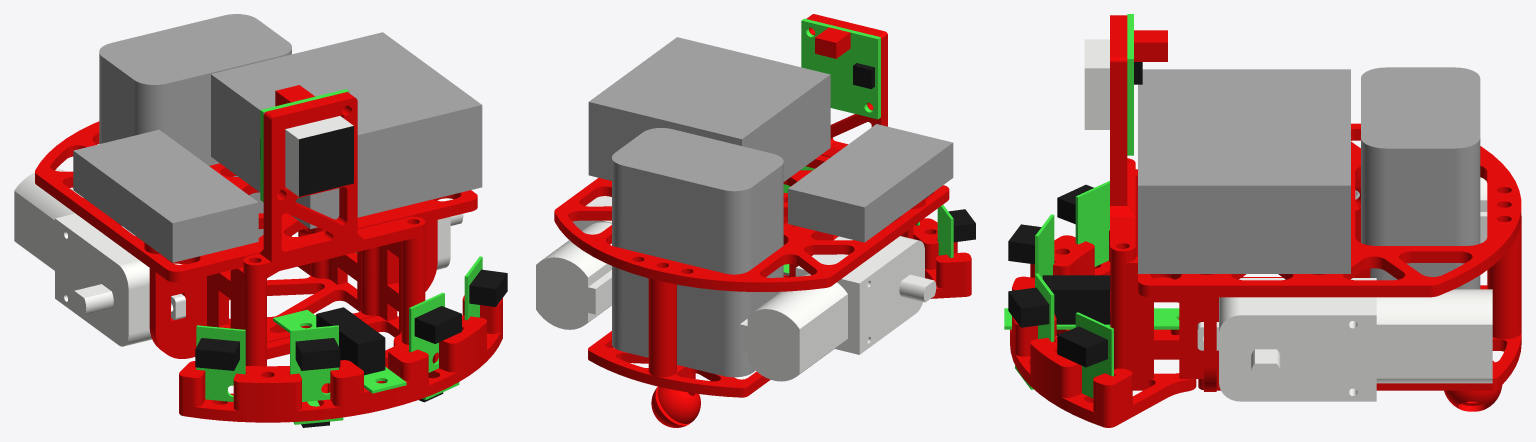
File: body.dae
3 renders of one model, left to right at view 1: azimuth 30°, elevation 25°; view 2: azimuth 150°, elevation 25°; view 3: azimuth 270°, elevation 25°, orthographic. The views are drawn at different scales.
Parts seen in each view (by area): view 1: Body1_Plastic_-_Matte_(Gray) (×3), Body1_Plastic_-_Matte_(Red) (×7), Body1_Plastic_-_Matte_(White) (×2), Body1_Plastic_-_Matte_(Black) (×5), Body1_Plastic_-_Matte_(Green) (×5), Body2_Plastic_-_Matte_(Black), Body2_Plastic_-_Matte_(White), Body2_Plastic_-_Matte_(Green); view 2: Body1_Plastic_-_Matte_(Gray) (×3), Body1_Plastic_-_Matte_(Red) (×8), Body1_Plastic_-_Matte_(White) (×2), Body2_Plastic_-_Matte_(Green), Body1_Plastic_-_Matte_(Green), Body1_Plastic_-_Matte_(Black), Body2_Plastic_-_Matte_(Black); view 3: Body1_Plastic_-_Matte_(Gray) (×3), Body1_Plastic_-_Matte_(Red) (×9), Body1_Plastic_-_Matte_(White) (×2), Body1_Plastic_-_Matte_(Black) (×5), Body1_Plastic_-_Matte_(Green) (×5), Body2_Plastic_-_Matte_(White), Body2_Plastic_-_Matte_(Green).
Part boxes in pixels (x1,y1,x2,y2): Body1_Plastic_-_Matte_(Gray) (×3): (73,14,482,270); Body1_Plastic_-_Matte_(Red) (×7): (35,85,502,422); Body1_Plastic_-_Matte_(White) (×2): (14,168,463,346); Body1_Plastic_-_Matte_(Black) (×5): (195,269,507,375); Body1_Plastic_-_Matte_(Green) (×5): (196,256,482,401); Body2_Plastic_-_Matte_(Black): (260,126,353,196); Body2_Plastic_-_Matte_(White): (285,116,353,196); Body2_Plastic_-_Matte_(Green): (260,89,348,201); Body1_Plastic_-_Matte_(Gray) (×3): (588,37,953,377); Body1_Plastic_-_Matte_(Red) (×8): (554,14,971,427); Body1_Plastic_-_Matte_(White) (×2): (536,196,936,381); Body2_Plastic_-_Matte_(Green): (801,18,880,119); Body1_Plastic_-_Matte_(Green): (937,205,953,257); Body1_Plastic_-_Matte_(Black): (948,209,975,242); Body2_Plastic_-_Matte_(Black): (853,63,874,89); Body1_Plastic_-_Matte_(Gray) (×3): (1138,67,1480,289); Body1_Plastic_-_Matte_(Red) (×9): (1010,15,1521,427); Body1_Plastic_-_Matte_(White) (×2): (1197,146,1492,401); Body1_Plastic_-_Matte_(Black) (×5): (1008,184,1110,367); Body1_Plastic_-_Matte_(Green) (×5): (1004,181,1179,398); Body2_Plastic_-_Matte_(White): (1084,39,1109,129); Body2_Plastic_-_Matte_(Green): (1127,14,1133,155).
Size of the model in its own units: 0.1096 by 0.1213 by 0.093.
